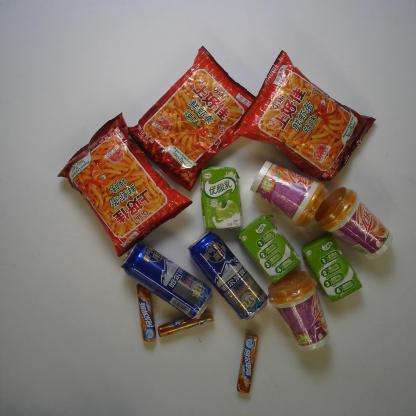Alcohol: (187, 229, 268, 322), (120, 242, 213, 320)
Candy: (158, 309, 214, 338), (235, 331, 259, 394), (136, 283, 158, 343)
Instant Drink: (314, 186, 393, 260), (249, 160, 329, 230), (267, 271, 331, 352)
Milk: (237, 213, 302, 285), (301, 231, 364, 304), (199, 165, 243, 230)
Puffed Food: (55, 111, 194, 260), (127, 43, 257, 195), (231, 50, 378, 184)
